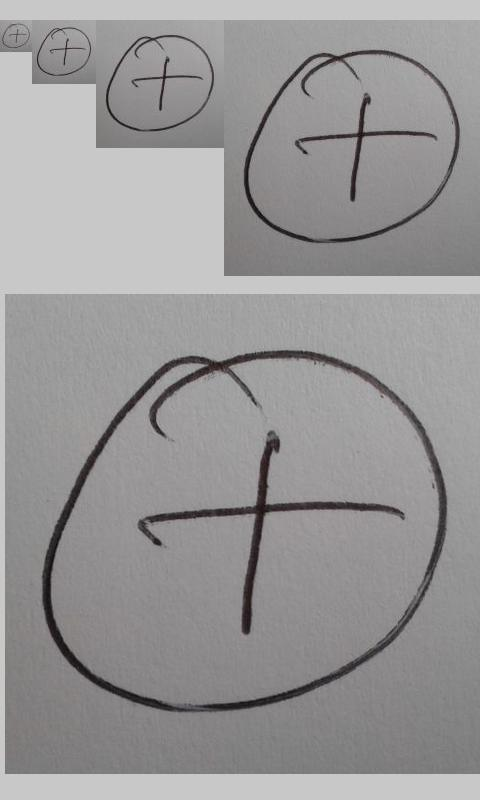button: (39, 347, 448, 716), (242, 48, 461, 246), (105, 34, 214, 132), (36, 26, 93, 77), (2, 23, 30, 49)
